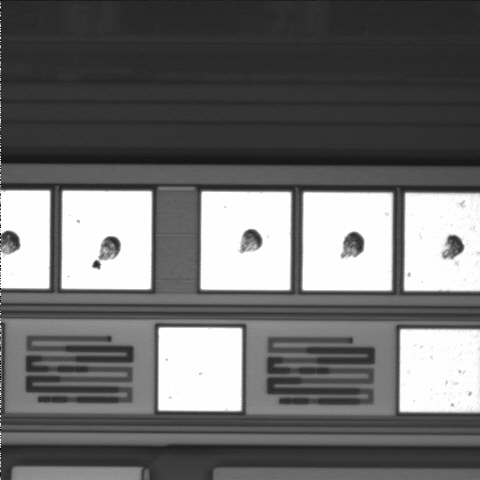pad: (302, 192, 392, 291), (62, 191, 152, 289), (201, 192, 291, 290), (158, 328, 242, 411)
